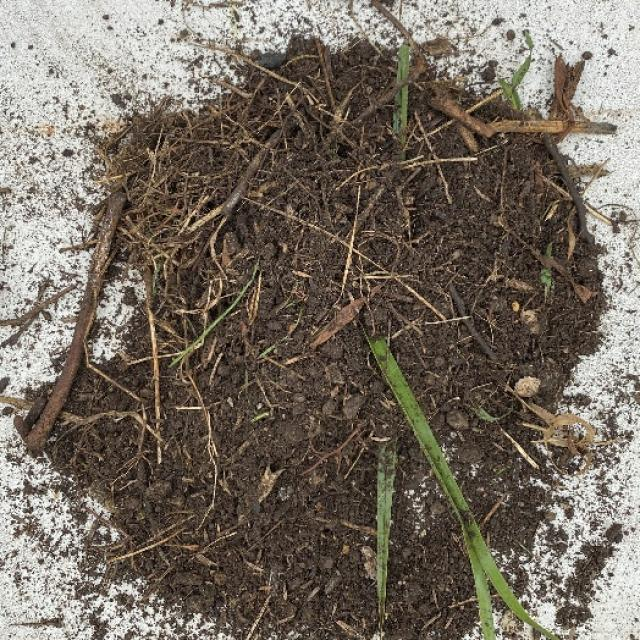organik: (87, 48, 530, 544)
